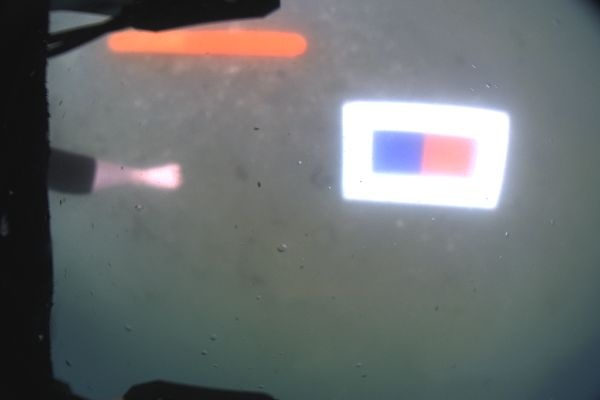bin: (340, 100, 510, 210)
bin_bleue: (373, 132, 420, 172)
bin_rouge: (421, 134, 470, 174)
path: (106, 30, 308, 56)
